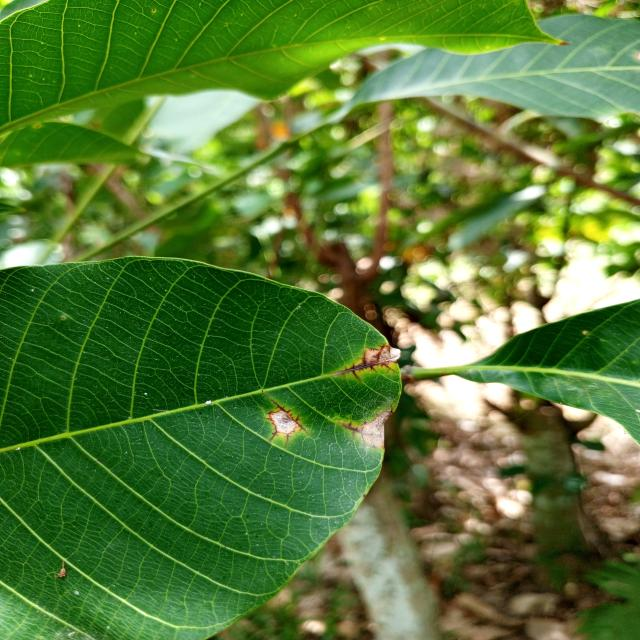Corynespora: (262, 399, 307, 447), (340, 343, 396, 381), (338, 423, 364, 437)
Leaf-Blight: (361, 412, 392, 448), (271, 411, 299, 434), (379, 347, 401, 362)
